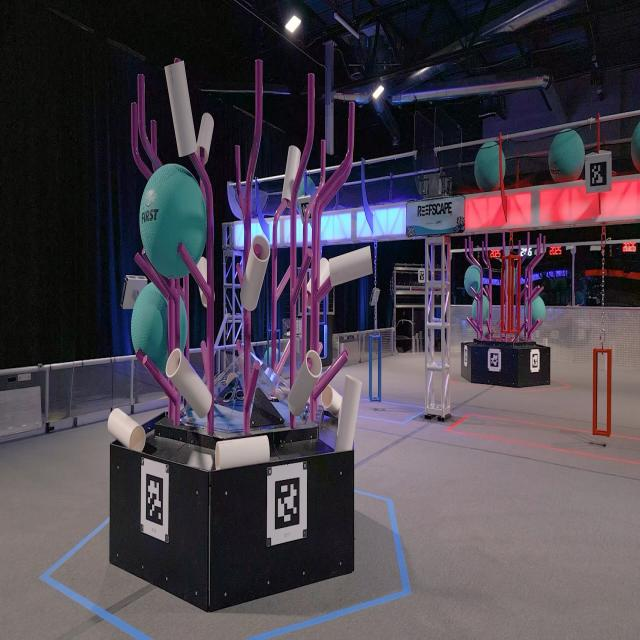Algae: (138, 161, 207, 279), (524, 295, 546, 326), (464, 264, 483, 297), (472, 295, 490, 325)
Coral: (165, 346, 212, 418), (164, 61, 198, 158), (240, 235, 271, 311), (288, 350, 322, 417), (333, 374, 362, 452), (215, 435, 270, 470), (107, 405, 146, 452), (329, 246, 373, 287), (281, 145, 301, 209), (196, 112, 214, 164)
